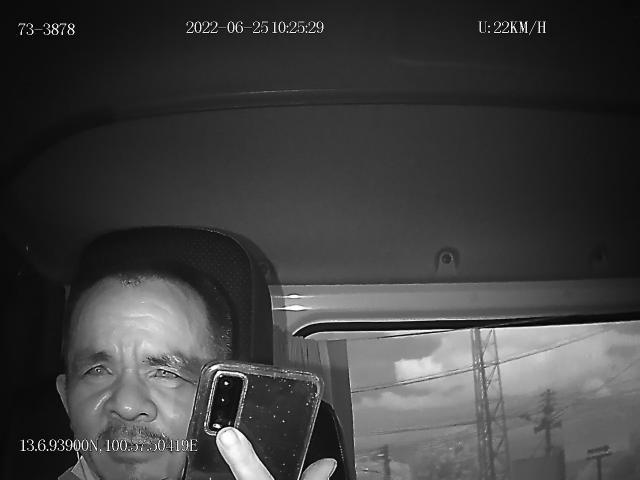PhoneUse: (184, 358, 324, 480)
SafeDriving: (140, 352, 189, 388), (75, 351, 121, 387)
